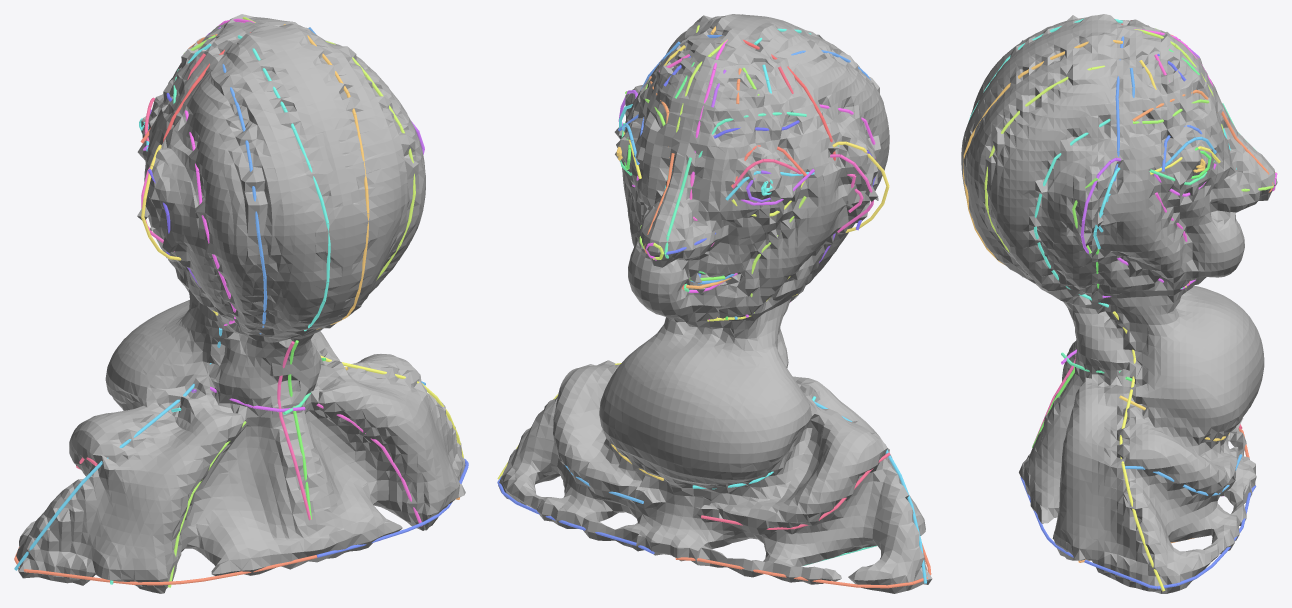
File: author1_bust.gltf
3 renders of one model, left to right at view 1: azimuth 30°, elevation 25°; view 2: azimuth 150°, elevation 25°; view 3: azimuth 270°, elevation 25°, orthographic. The views are drawn at different scales.
Bounding box in the file's own units: 0.6258 × 0.6879 × 0.4144.
